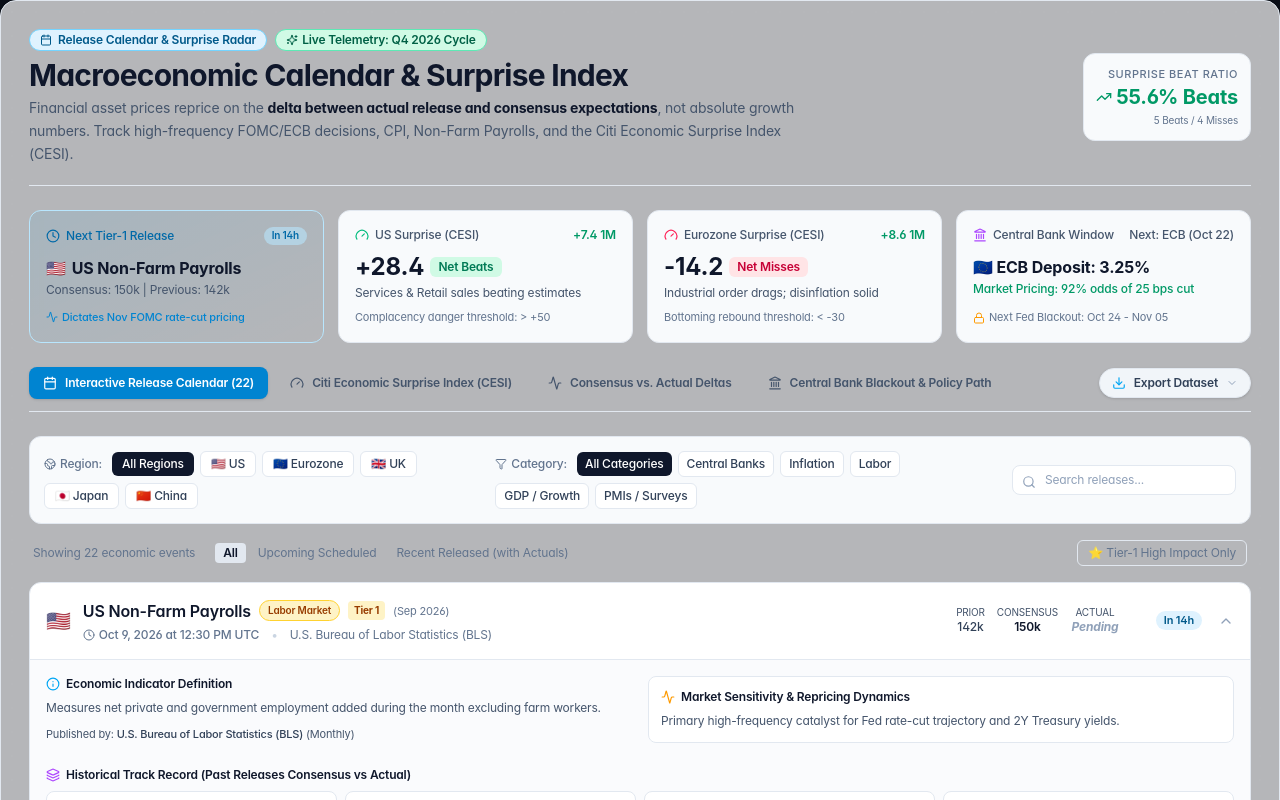
MacroCalendarRadar Component › switches to Central Bank Blackout & Policy Path view
The image size is (1280, 800).
Click the button "Central Bank Blackout & Policy Path": (880, 383) [754,367,1006,399]
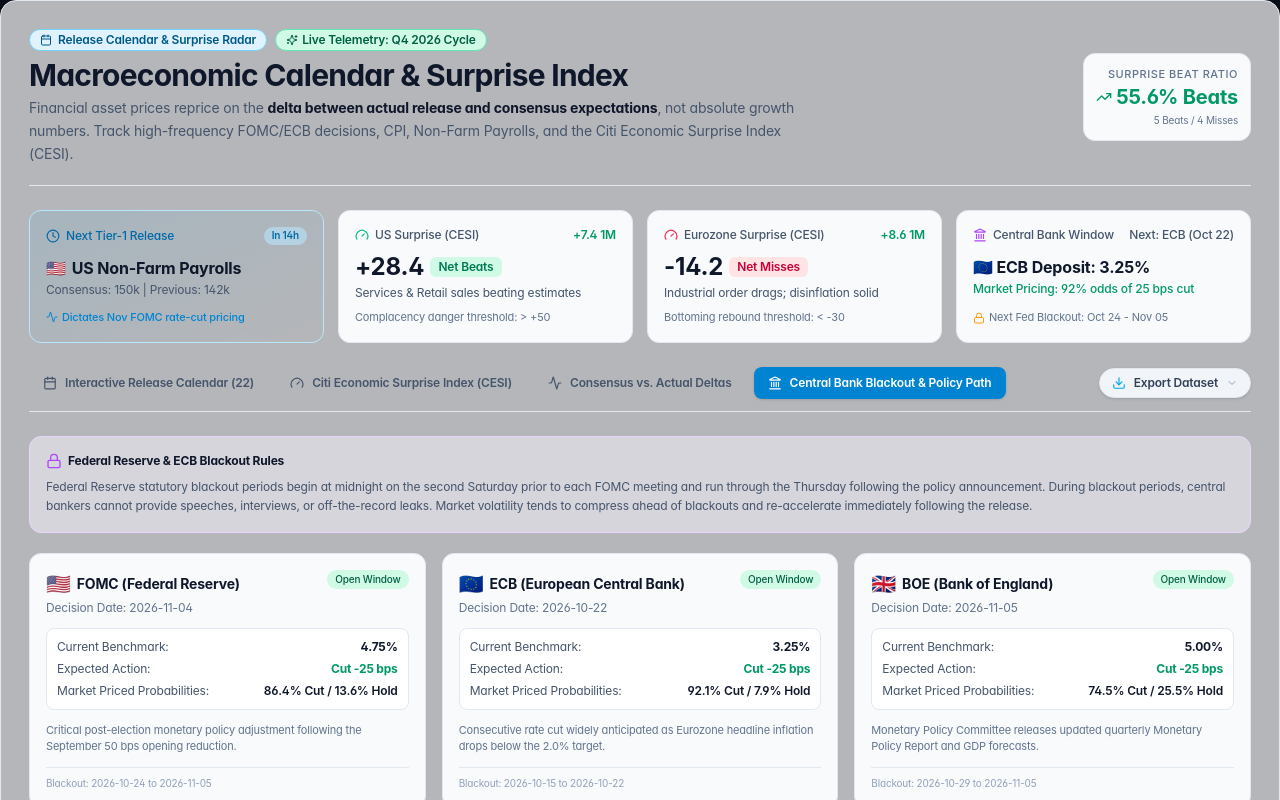
Now the text "Federal Reserve & ECB Blackout Rules" is shown, box [46,453,284,469]
